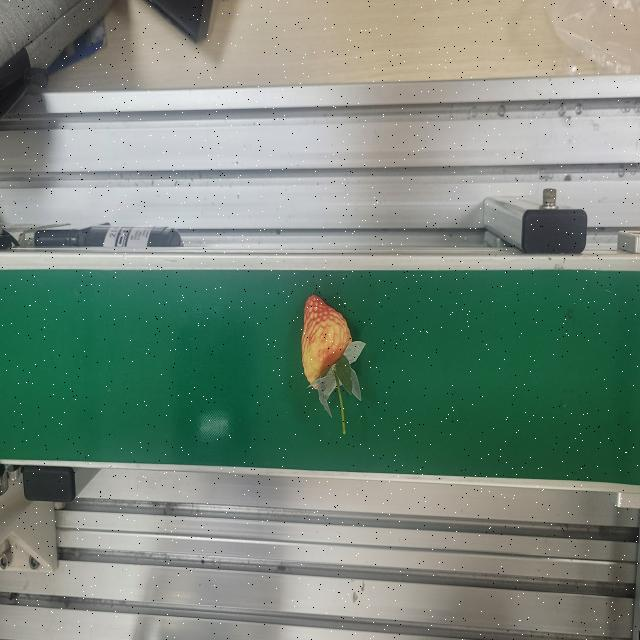Moldy Strawberry: (300, 290, 366, 414)
